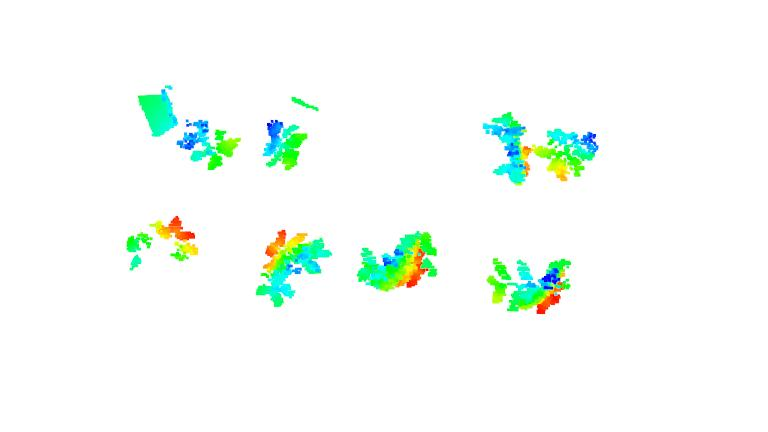chickpea: (256, 228, 334, 306), (485, 254, 575, 317), (354, 229, 437, 292), (122, 214, 198, 273), (534, 123, 600, 183), (482, 111, 534, 186), (177, 119, 240, 172), (259, 115, 307, 176)
